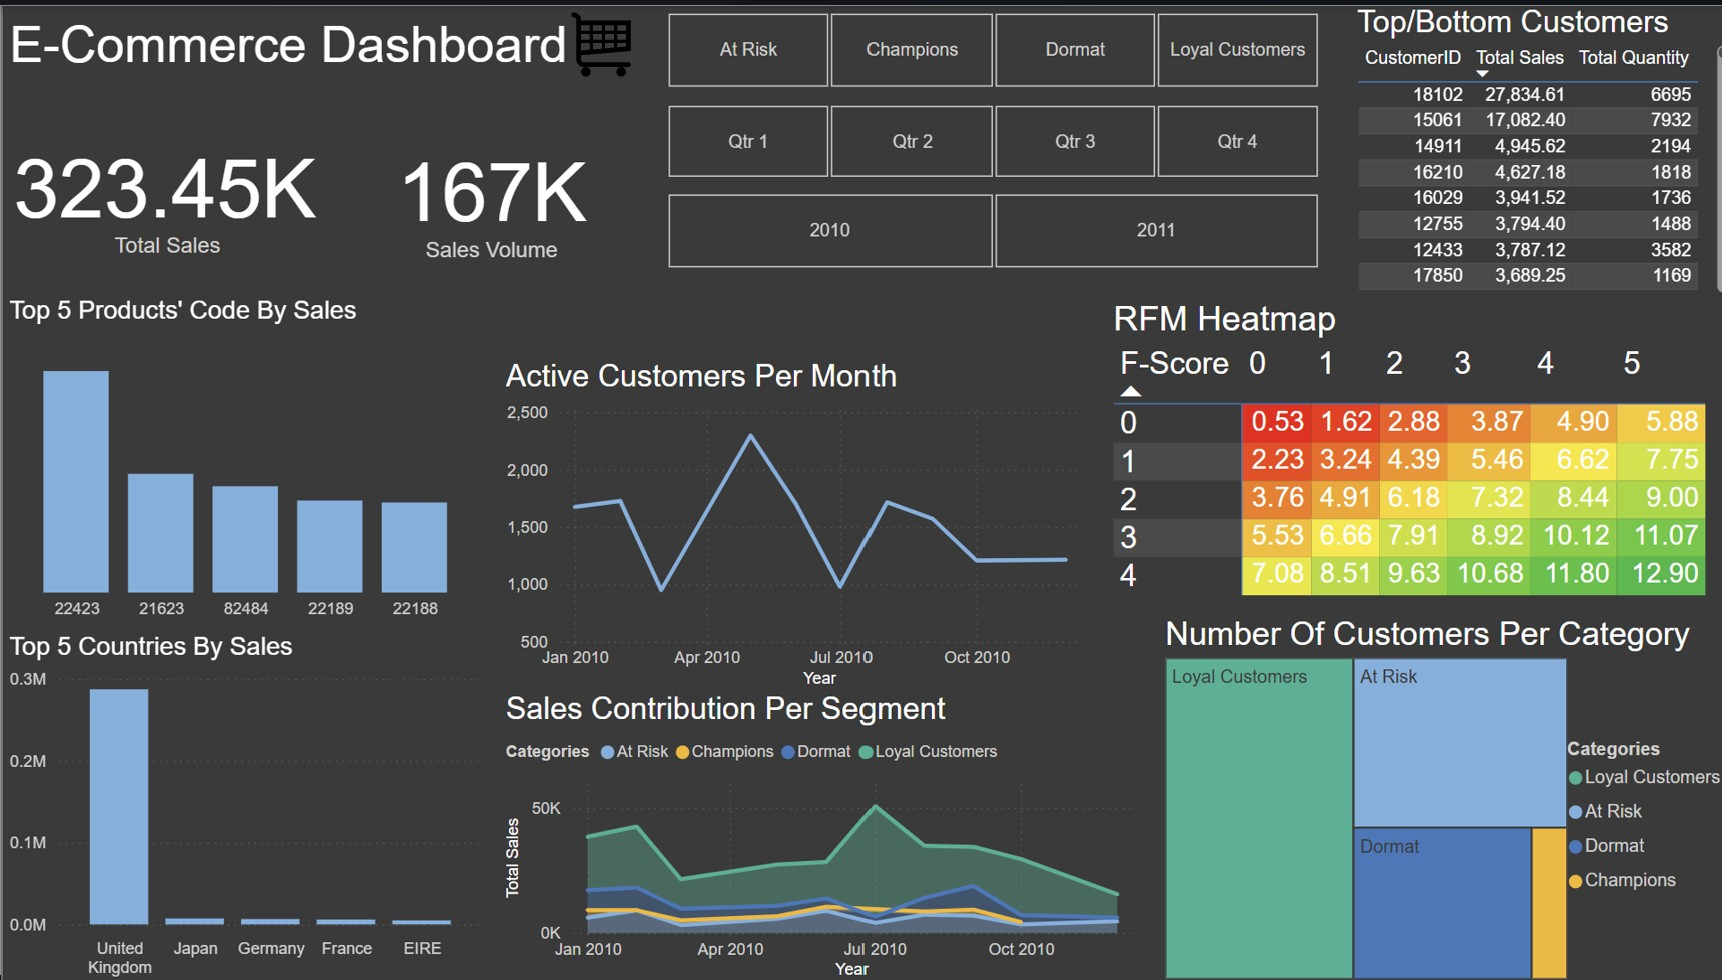

This screenshot's page, from the dashboard's own definition file:
{"tool":"powerbi","page":{"name":"Page 1","canvas":[1280,720],"ordinal":0},"visuals":[{"type":"pivotTable","title":"RFM Heatmap","fields":{"Rows":["RFM.Frequency Score"],"Columns":["RFM.Recency Score"],"Values":["Avg(RFM.Total RFM)"]},"box":[815.6,216.7,464.3,231.5],"z":0},{"type":"slicer","fields":{"Values":["RFM.Categories"]},"box":[467,0,528.9,67.3],"z":1000},{"type":"treemap","title":"Number Of Customers Per Category ","fields":{"Values":["CountNonNull(Cleaned Data from Python.CustomerID)"],"Group":["RFM.Categories"]},"box":[854.4,448,430.4,272],"z":2000},{"type":"stackedAreaChart","title":"Sales Contribution Per Segment","fields":{"Y":["Sum(Cleaned Data from Python.Total Sales)"],"Series":["RFM.Categories"],"Category":["Cleaned Data from Python.InvoiceDate.Variation.Date Hierarchy.Year","Cleaned Data from Python.InvoiceDate.Variation.Date Hierarchy.Month"]},"box":[367.9,504.3,485.9,216.1],"z":3000},{"type":"lineChart","title":"Active Customers Per Month","fields":{"Category":["Cleaned Data from Python.InvoiceDate.Variation.Date Hierarchy.Year","Cleaned Data from Python.InvoiceDate.Variation.Date Hierarchy.Month"],"Y":["CountNonNull(Cleaned Data from Python.CustomerID)"]},"box":[367.4,259.7,448.1,246.3],"z":4000},{"type":"tableEx","title":"Top/Bottom Customers","fields":{"Values":["Cleaned Data from Python.CustomerID","Sum(Cleaned Data from Python.Total Sales)","Sum(Cleaned Data from Python.Quantity)"]},"box":[995.9,0,285.3,216.7],"z":5000},{"type":"slicer","title":"Quarter","fields":{"Values":["Cleaned Data from Python.InvoiceDate.Variation.Date Hierarchy.Quarter"]},"box":[467,67.3,528.9,65.9],"z":6000},{"type":"slicer","title":"Year","fields":{"Values":["Cleaned Data from Python.InvoiceDate.Variation.Date Hierarchy.Year"]},"box":[467,133.2,528.9,67.3],"z":7000},{"type":"card","fields":{"Values":["Sum(Cleaned Data from Python.Total Sales)"]},"box":[0,64.6,239.6,149.4],"z":8000},{"type":"card","fields":{"Values":["Sum(Cleaned Data from Python.Quantity)"]},"box":[240.9,67.3,240.9,149.4],"z":9000},{"type":"clusteredColumnChart","title":"Top 5 Products'' Code By Sales","fields":{"Y":["Sum(Cleaned Data from Python.Total Sales)"],"Category":["Cleaned Data from Python.StockCode"]},"box":[0,214,360.7,246.3],"z":10000},{"type":"clusteredColumnChart","title":"Top 5 Countries By Sales","fields":{"Category":["Cleaned Data from Python.Country"],"Y":["Sum(Cleaned Data from Python.Total Sales)"]},"box":[0,460.3,360.7,261.1],"z":11000},{"type":"textbox","box":[0,2.7,445.5,64.6],"z":12000}]}

Visuals, with their boxes in screenshot pixels (x1, y1, x2, y2), scaled from the page's 1280x720 canvas onto the 1722x980 screenshot:
"RFM Heatmap" pivotTable: BBox(1097, 295, 1721, 610)
slicer - RFM.Categories: BBox(628, 0, 1340, 92)
"Number Of Customers Per Category " treemap: BBox(1149, 610, 1721, 979)
"Sales Contribution Per Segment" stackedAreaChart: BBox(495, 686, 1149, 979)
"Active Customers Per Month" lineChart: BBox(494, 353, 1097, 689)
"Top/Bottom Customers" tableEx: BBox(1340, 0, 1721, 295)
"Quarter" slicer: BBox(628, 92, 1340, 181)
"Year" slicer: BBox(628, 181, 1340, 273)
card - Sum(Cleaned Data from Python.Total Sales): BBox(0, 88, 322, 291)
card - Sum(Cleaned Data from Python.Quantity): BBox(324, 92, 648, 295)
"Top 5 Products'' Code By Sales" clusteredColumnChart: BBox(0, 291, 485, 627)
"Top 5 Countries By Sales" clusteredColumnChart: BBox(0, 627, 485, 979)
textbox: BBox(0, 4, 599, 92)
